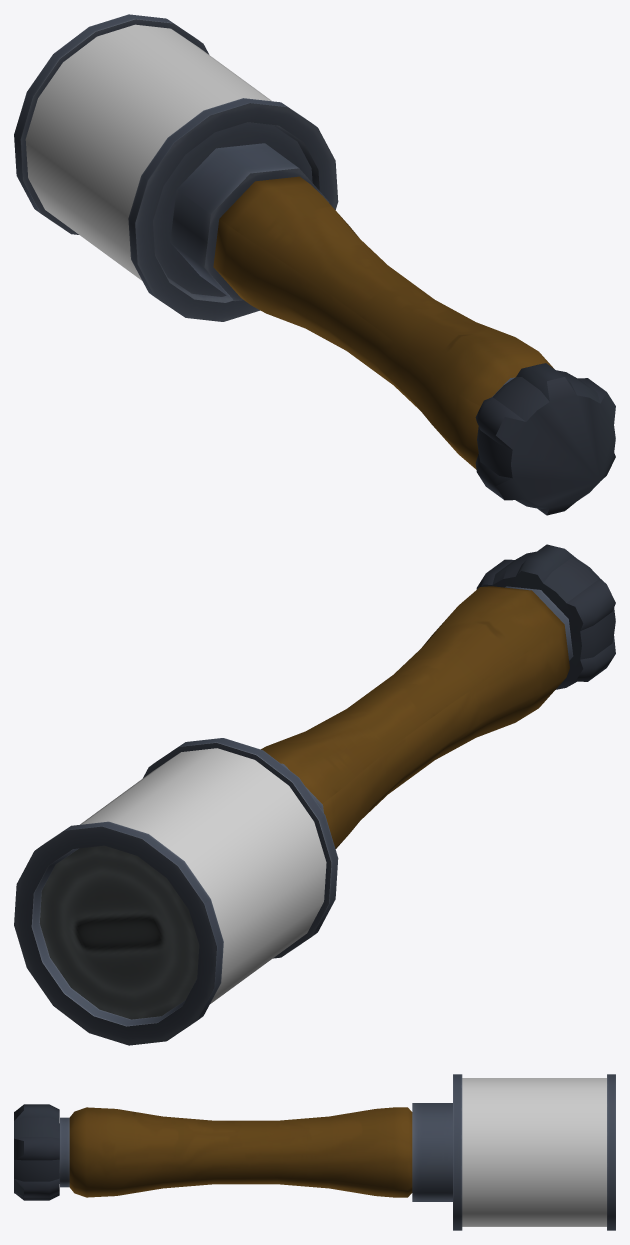
The model's file is SingleGranade_Preview.fbx.
3 renders of one model, top to bottom at view 1: azimuth 30°, elevation 25°; view 2: azimuth 150°, elevation 25°; view 3: azimuth 270°, elevation 25°, orthographic. The views are drawn at different scales.
Parts seen in each view (by area): view 1: Granade; view 2: Granade; view 3: Granade.
Boxes of the visible parts, x1,y1,x2,y2 form: Granade: (14,14,615,515); Granade: (14,544,615,1045); Granade: (14,1074,615,1230).
Bounding box in the file's own units: 0.4944 × 0.4944 × 1.89.
